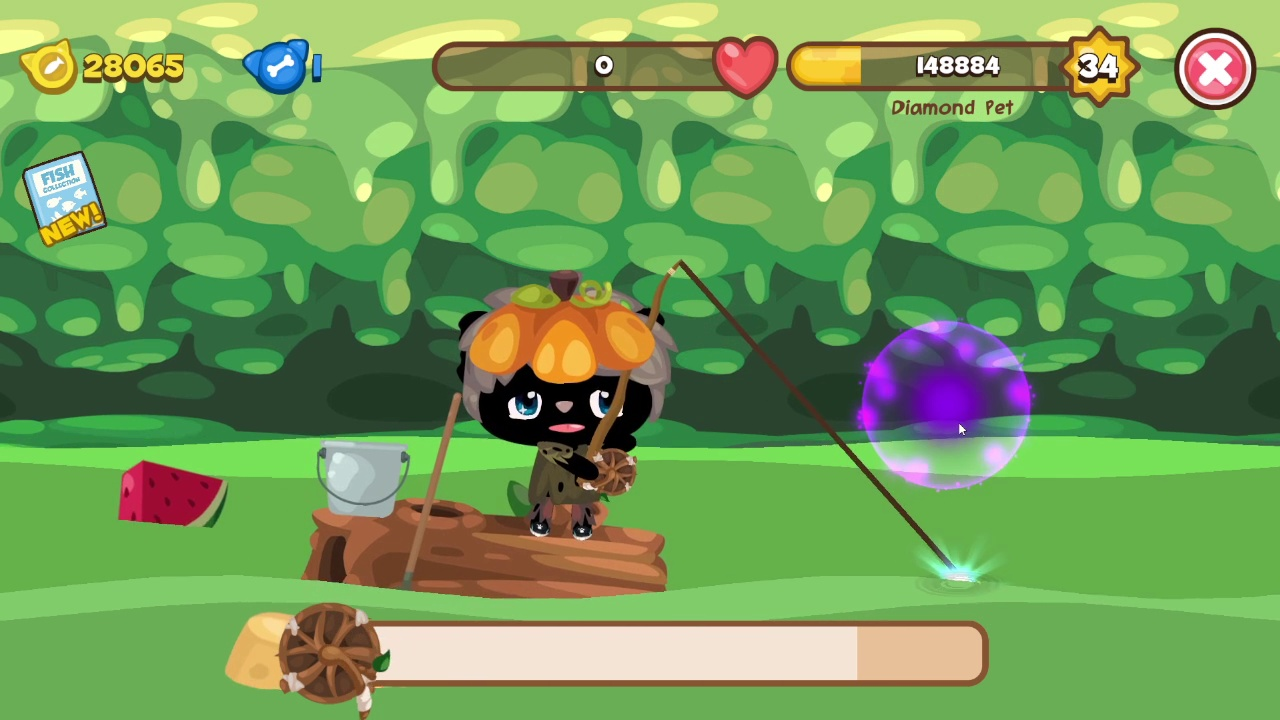point: (859, 318, 1032, 490)
